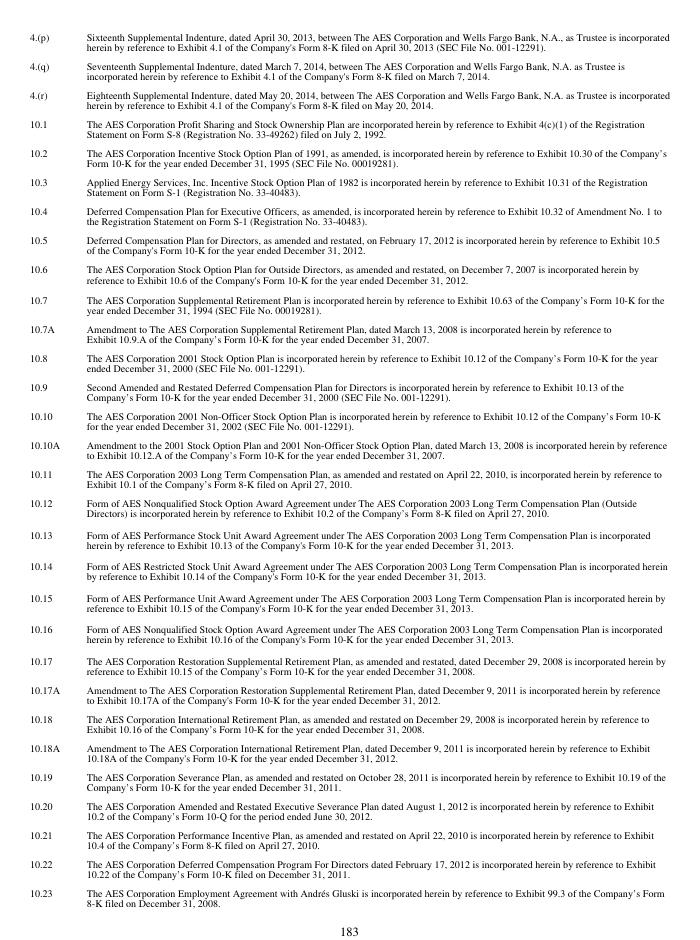table: (28, 29, 668, 909)
table column: (72, 29, 668, 909), (28, 29, 72, 909)
table row: (28, 522, 668, 554), (28, 554, 668, 586), (28, 617, 668, 649), (28, 586, 668, 617), (28, 200, 668, 230), (28, 288, 668, 318), (28, 492, 668, 522), (28, 649, 668, 679), (28, 55, 668, 84), (28, 84, 668, 113), (28, 113, 668, 142), (28, 142, 668, 171), (28, 171, 668, 200), (28, 230, 668, 259), (28, 259, 668, 288), (28, 318, 668, 347), (28, 347, 668, 376), (28, 376, 668, 405), (28, 405, 668, 434), (28, 434, 668, 463), (28, 463, 668, 492), (28, 679, 668, 708), (28, 708, 668, 737), (28, 737, 668, 766), (28, 766, 668, 795), (28, 795, 668, 824), (28, 824, 668, 853), (28, 853, 668, 882), (28, 882, 668, 909), (28, 29, 668, 55)
